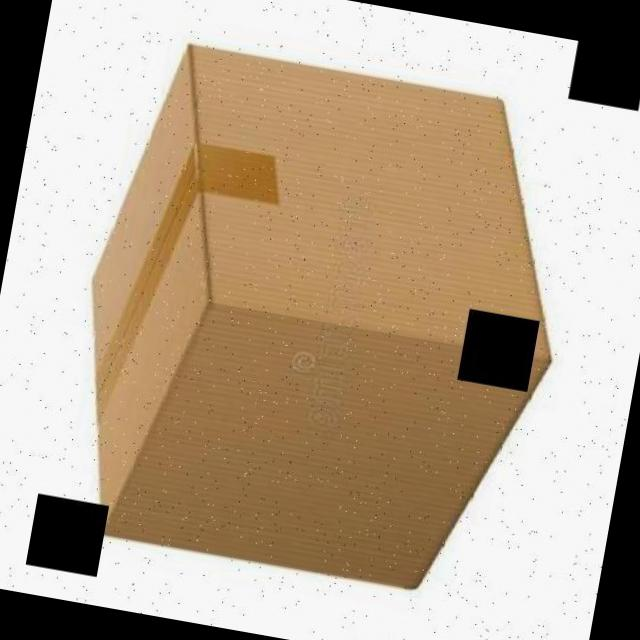box: (42, 27, 600, 616)
